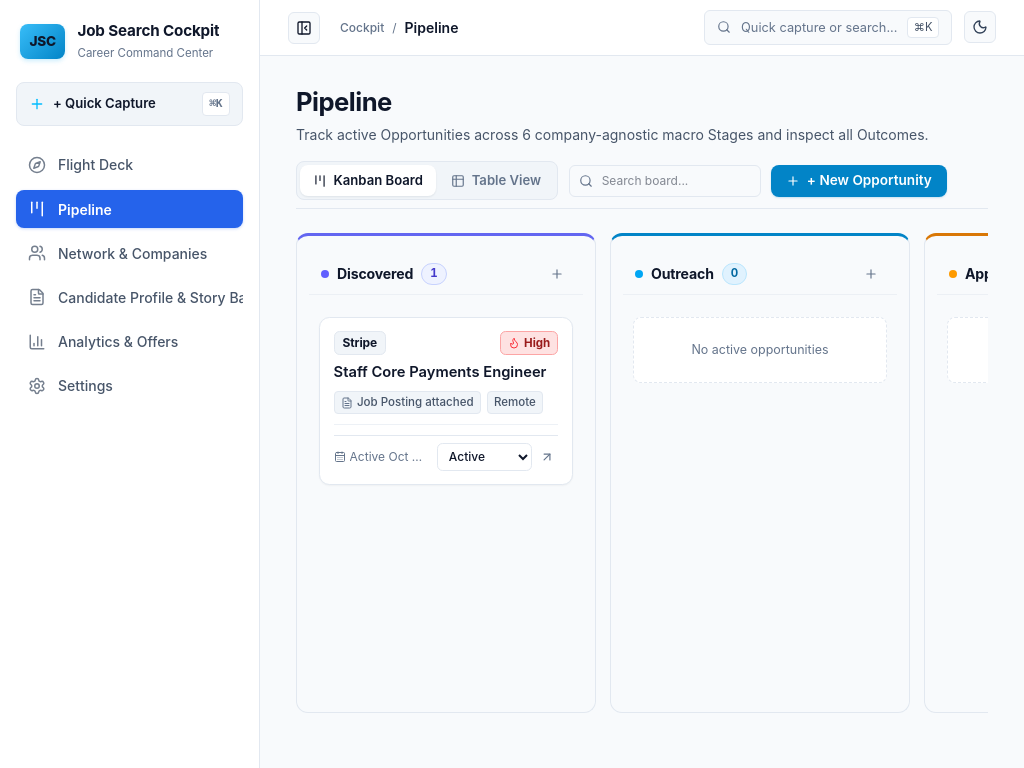
Test: Pipeline Spine Workspace Views (over /api/* HTTP handlers) › renders persistent navigation shell, Active-only Kanban columns, moves stage, and filters Outcomes in table view
Expected: the link "Staff Core Payments Engineer" is shown, [334,363,546,381]
Expected: the navigation bar named "Workspace Navigation" is shown, [16,146,243,405]
Select "Rejected" in the dropdown named "Set Staff Core Payments Engineer Outcome" at (485,457), box [437,443,532,471]
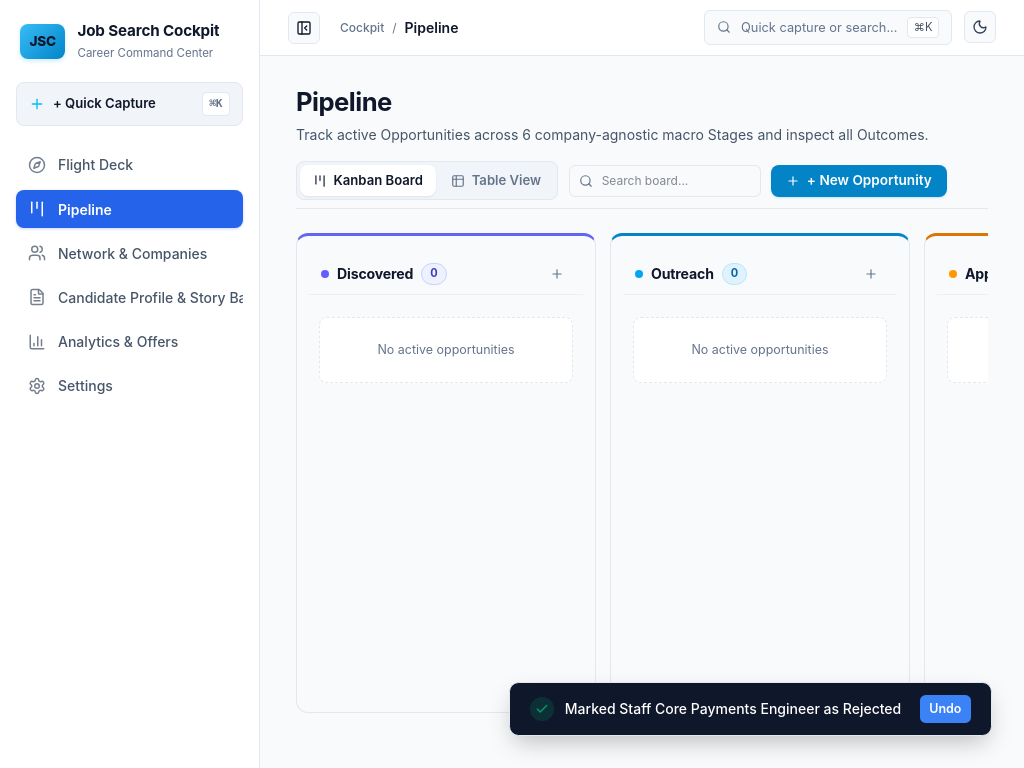
Expected: the text "Marked Staff Core Payments Engineer as Rejected" is shown, [565,699,901,719]
Note: Clicking Undo restores the card back to Active on the Kanban board
Click the button "Undo" at (945,709), box [920,695,971,723]
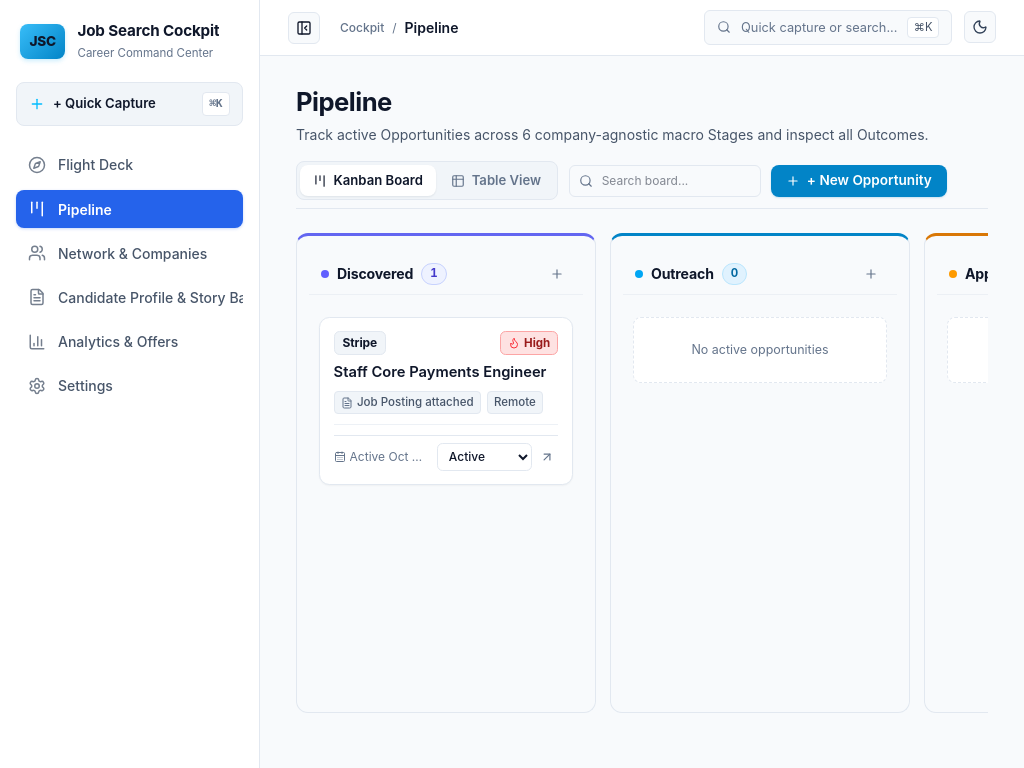
Expected: the link "Staff Core Payments Engineer" is shown, [334,363,546,381]
Click the button "Table View" at (496,181), box [438,165,554,196]
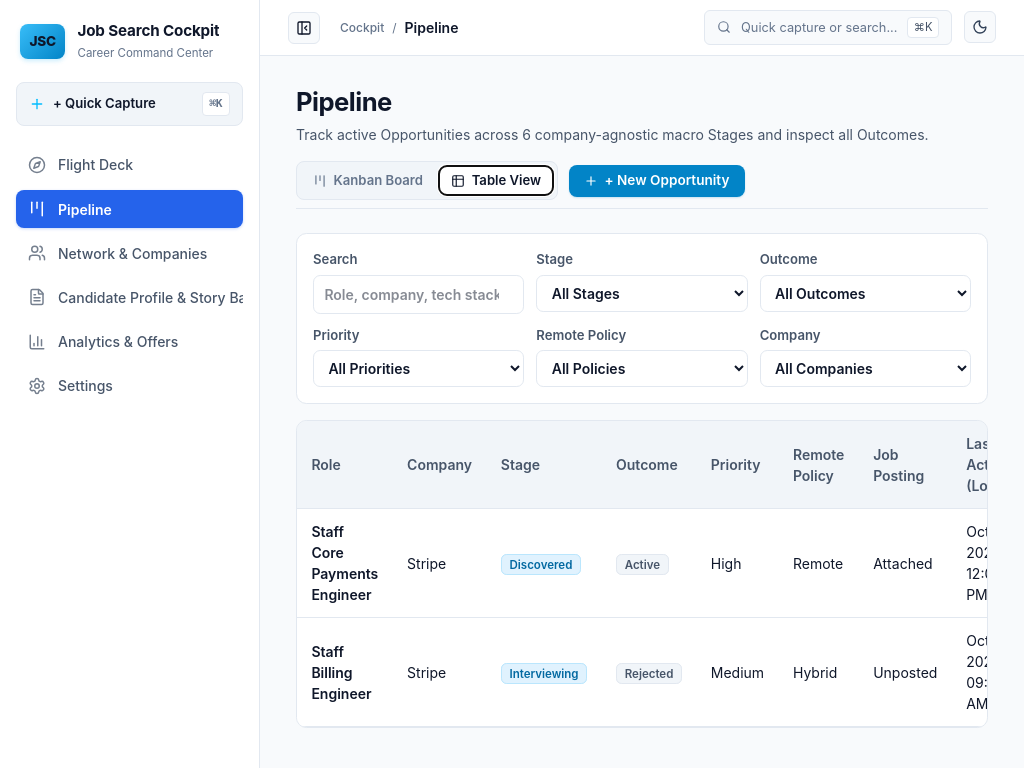
Expected: the link "Staff Billing Engineer" is shown, [311,642,372,702]
Select "Rejected" in the dropdown named "Filter by Outcome" at (865,293), box [760,274,971,312]
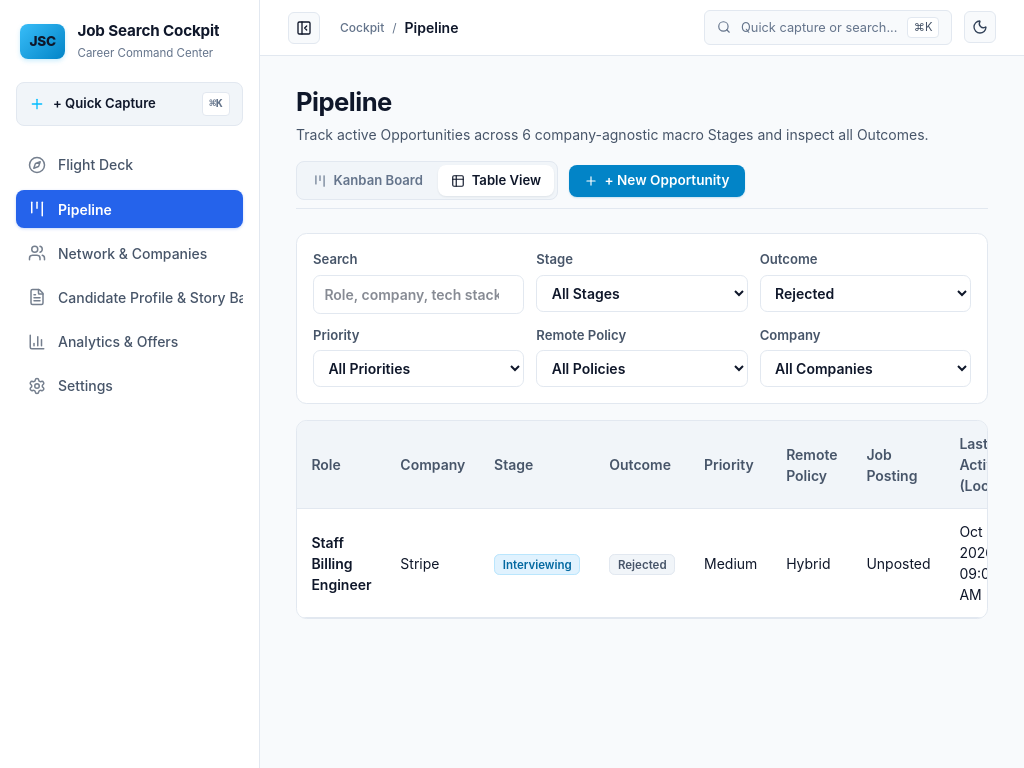
Expected: the link "Staff Billing Engineer" is shown, [311,534,372,592]
Expected: the link "Staff Core Payments Engineer" is gone
